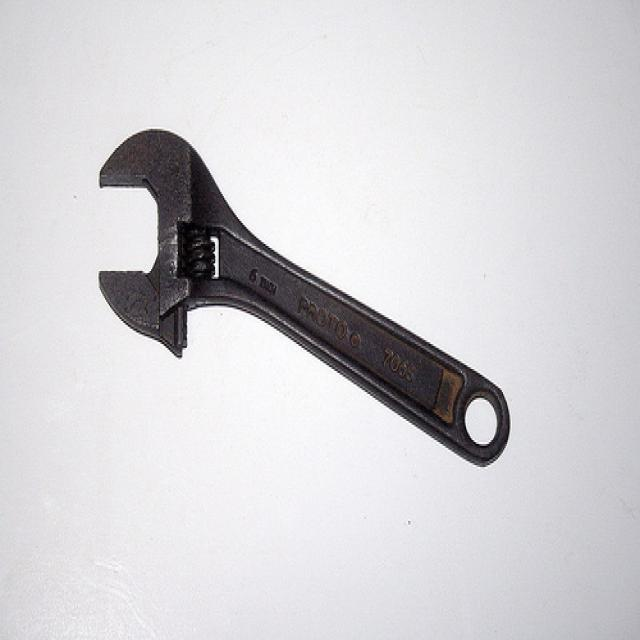wrench: (78, 120, 512, 480)
